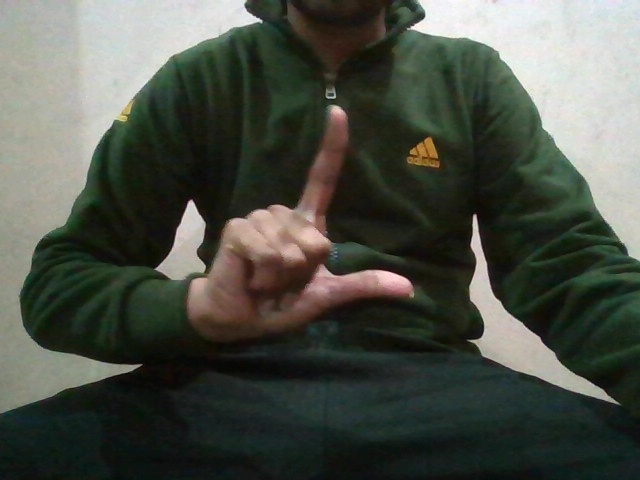L: (201, 98, 413, 366)
